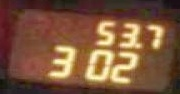-: (133, 40, 144, 49)
0: (83, 47, 111, 81)
2: (109, 49, 138, 84)
3: (46, 42, 75, 77), (118, 19, 131, 46)
5: (91, 17, 116, 45)
7: (145, 21, 165, 48)
